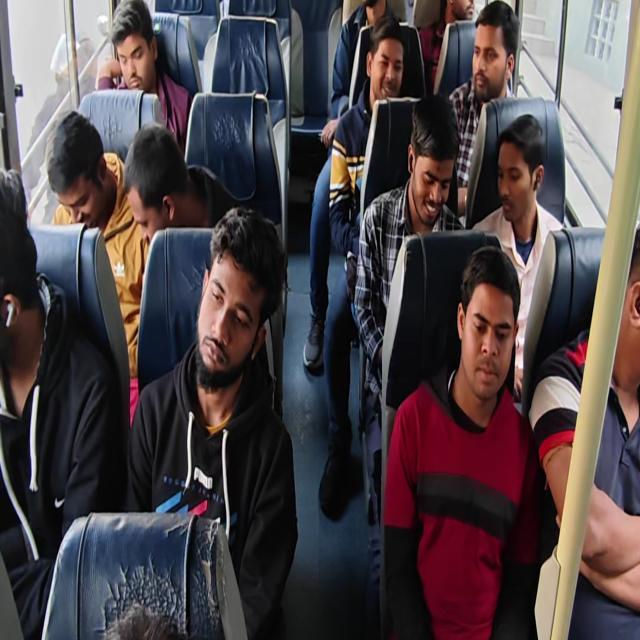person: (459, 260, 518, 405), (0, 183, 43, 378), (198, 232, 250, 388), (123, 135, 184, 255), (46, 122, 105, 226), (602, 239, 640, 384), (405, 115, 450, 232), (493, 130, 538, 221), (112, 8, 152, 95), (470, 21, 505, 94), (371, 31, 404, 102), (435, 0, 485, 36), (359, 0, 393, 26)
